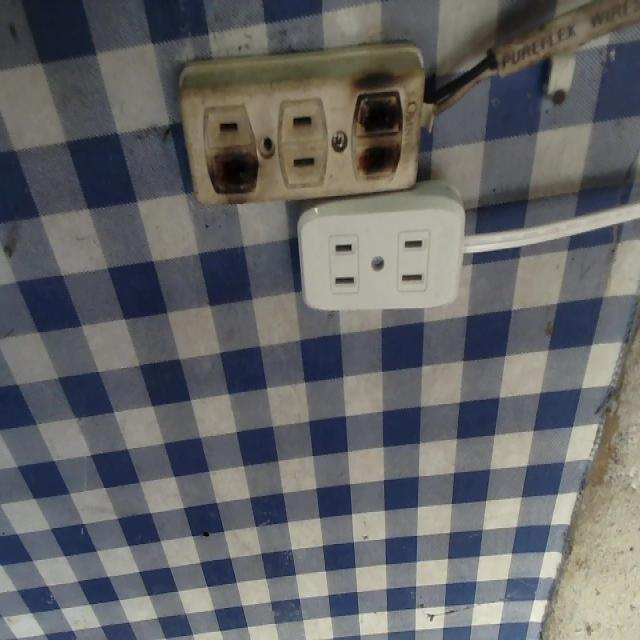-: (348, 85, 403, 179), (203, 147, 260, 196)
